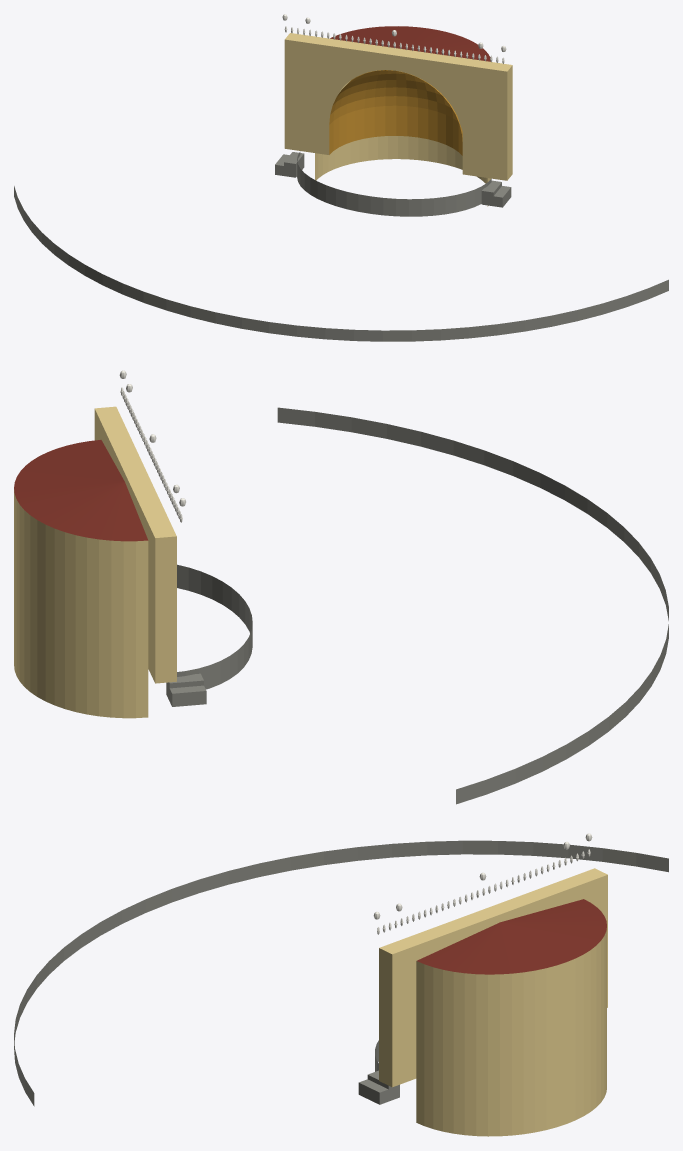
Rendered from rakushka.lod.glb.
3 renders of one model, top to bottom at view 1: azimuth 30°, elevation 25°; view 2: azimuth 150°, elevation 25°; view 3: azimuth 270°, elevation 25°, orthographic. The views are drawn at different scales.
Visible parts, largest first — view 1: rakushka_wall, rakushka_stone, rakushka_wall2, rakushka_roof, rakushka_trim_s; view 2: rakushka_wall, rakushka_stone, rakushka_roof, rakushka_trim_s; view 3: rakushka_wall, rakushka_stone, rakushka_roof, rakushka_trim_s.
Boxes of the visible parts, left/top/right/bottom form: rakushka_wall: left=284, top=33, right=512, bottom=206; rakushka_stone: left=14, top=151, right=668, bottom=341; rakushka_wall2: left=329, top=70, right=462, bottom=155; rakushka_roof: left=330, top=26, right=490, bottom=61; rakushka_trim_s: left=282, top=14, right=506, bottom=63; rakushka_wall: left=14, top=406, right=176, bottom=718; rakushka_stone: left=166, top=407, right=668, bottom=804; rakushka_roof: left=14, top=440, right=148, bottom=541; rakushka_trim_s: left=119, top=370, right=185, bottom=522; rakushka_wall: left=379, top=868, right=607, bottom=1136; rakushka_stone: left=14, top=840, right=668, bottom=1106; rakushka_roof: left=417, top=899, right=606, bottom=974; rakushka_trim_s: left=373, top=833, right=592, bottom=934.
Size of the model in its own units: 35.42 by 13.81 by 38.86.
